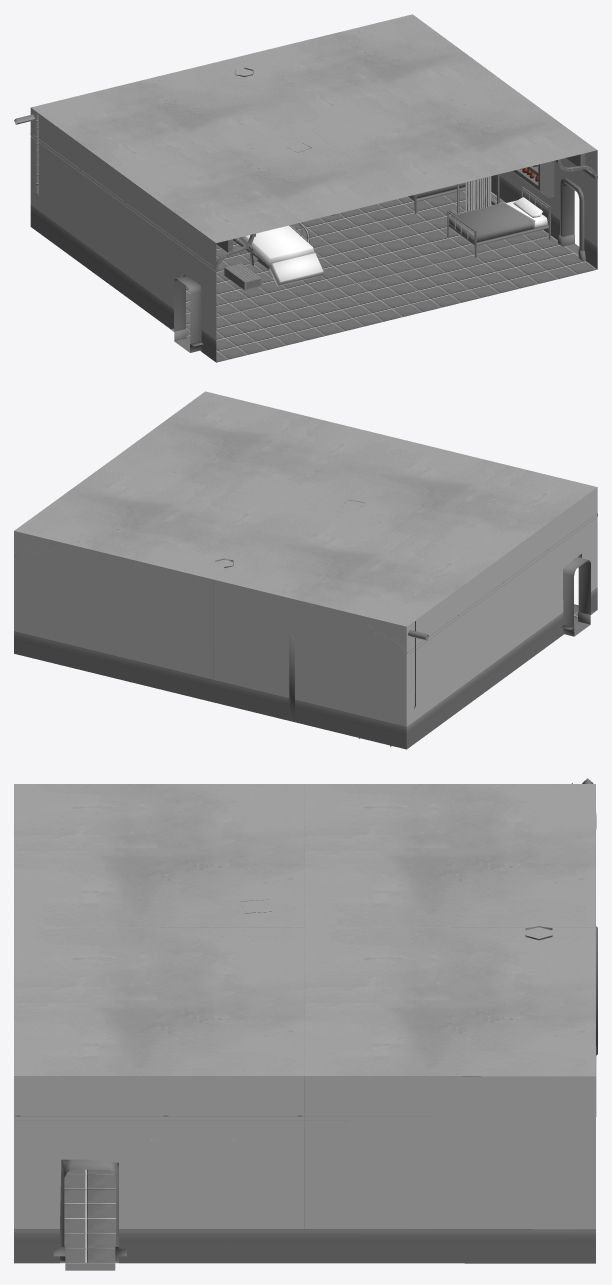
Rendered from MSH_Med_room_L3_R2_optimized.fbx.
3 renders of one model, top to bottom at view 1: azimuth 30°, elevation 25°; view 2: azimuth 150°, elevation 25°; view 3: azimuth 270°, elevation 25°, orthographic. The views are drawn at different scales.
Parts seen in each view (by area): view 1: lightmap0, lightmap1, lightmap-1; view 2: lightmap0, lightmap-1, lightmap1; view 3: lightmap0, lightmap-1, lightmap1.
Part boxes in pixels (x1=…): lightmap0: x1=30, y1=14, x2=597, y2=362; lightmap1: x1=14, y1=67, x2=554, y2=290; lightmap-1: x1=174, y1=183, x2=579, y2=352; lightmap0: x1=14, y1=391, x2=597, y2=749; lightmap-1: x1=563, y1=557, x2=590, y2=636; lightmap1: x1=215, y1=500, x2=429, y2=746; lightmap0: x1=14, y1=784, x2=596, y2=1263; lightmap-1: x1=64, y1=1160, x2=115, y2=1270; lightmap1: x1=150, y1=778, x2=597, y2=1198.
Bounding box in the file's own units: 21.01 × 6.05 × 16.57.
